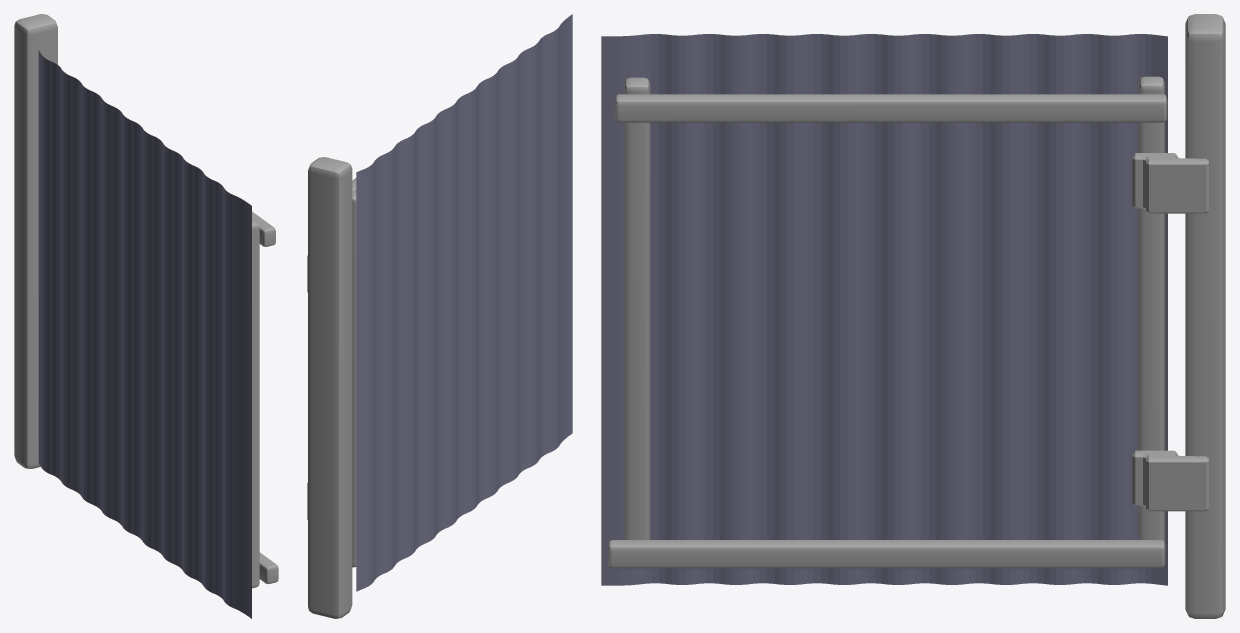
Rendered from corrugatedFenceGate.fbx.
The picture shows the model from 3 angles, left to right: view 1: azimuth 30°, elevation 25°; view 2: azimuth 150°, elevation 25°; view 3: azimuth 270°, elevation 25°; orthographic projection. The views are drawn at different scales.
Visible parts, largest first — view 1: corrugatedPanel1, woodPost, wood1; view 2: corrugatedPanel1, woodPost, wood1; view 3: corrugatedPanel1, wood1, woodPost, hinge.
Boxes of the visible parts, <box> form: corrugatedPanel1: <box>38,50,251,618</box>; woodPost: <box>14,14,57,468</box>; wood1: <box>252,211,278,588</box>; corrugatedPanel1: <box>356,14,572,591</box>; woodPost: <box>308,157,352,618</box>; wood1: <box>352,178,356,567</box>; corrugatedPanel1: <box>601,34,1167,585</box>; wood1: <box>608,76,1167,568</box>; woodPost: <box>1185,14,1225,618</box>; hinge: <box>1132,153,1208,511</box>.
Bounding box in the file's own units: 15.91 × 171 × 164.
